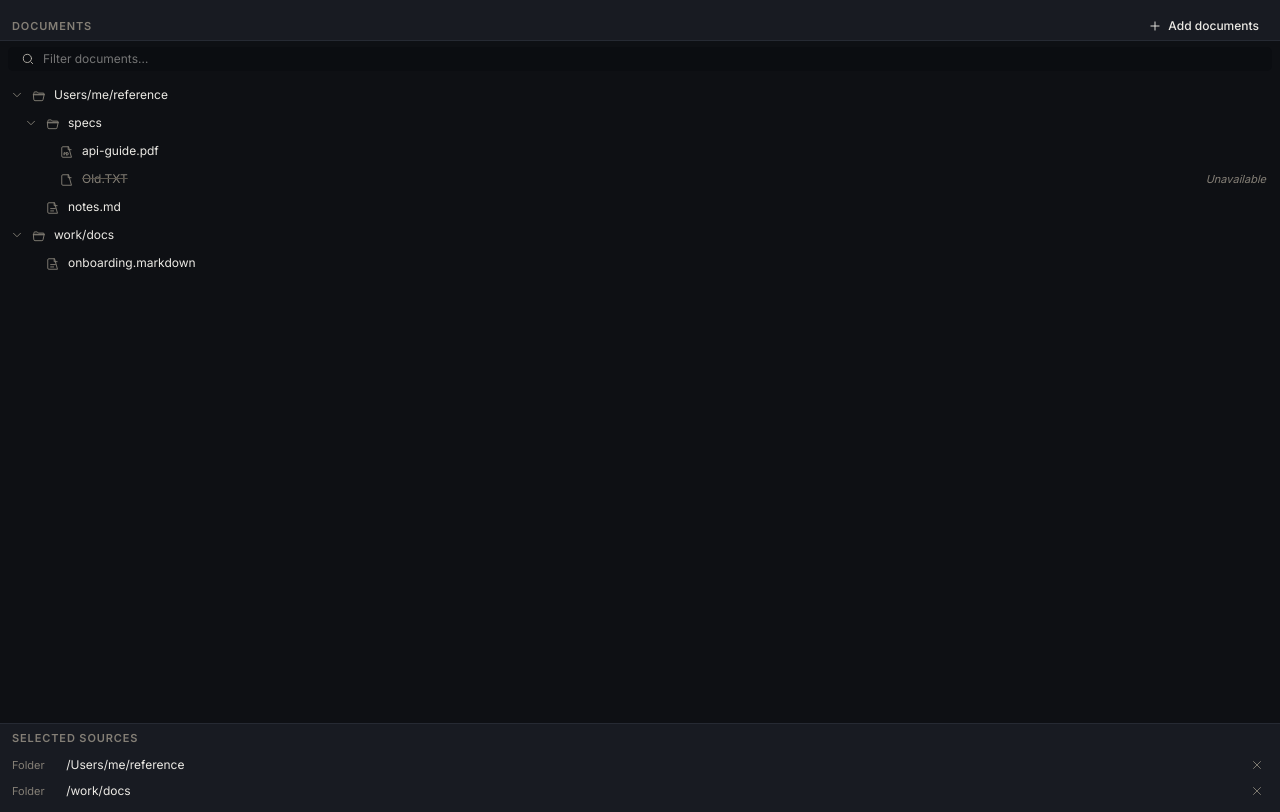
Test case: DPN-FR-UGVG: expanding and the keyboard › DPN-FR-UGVG: a folder row expands and collapses on click and carries aria-expanded
Expected: the element named "Documents" is shown, [6, 81, 1274, 277]
What coordinates should you click on to do the following:
click the list item "specs"
I would click on:
 (63, 123)
Its box is [24, 115, 102, 131].
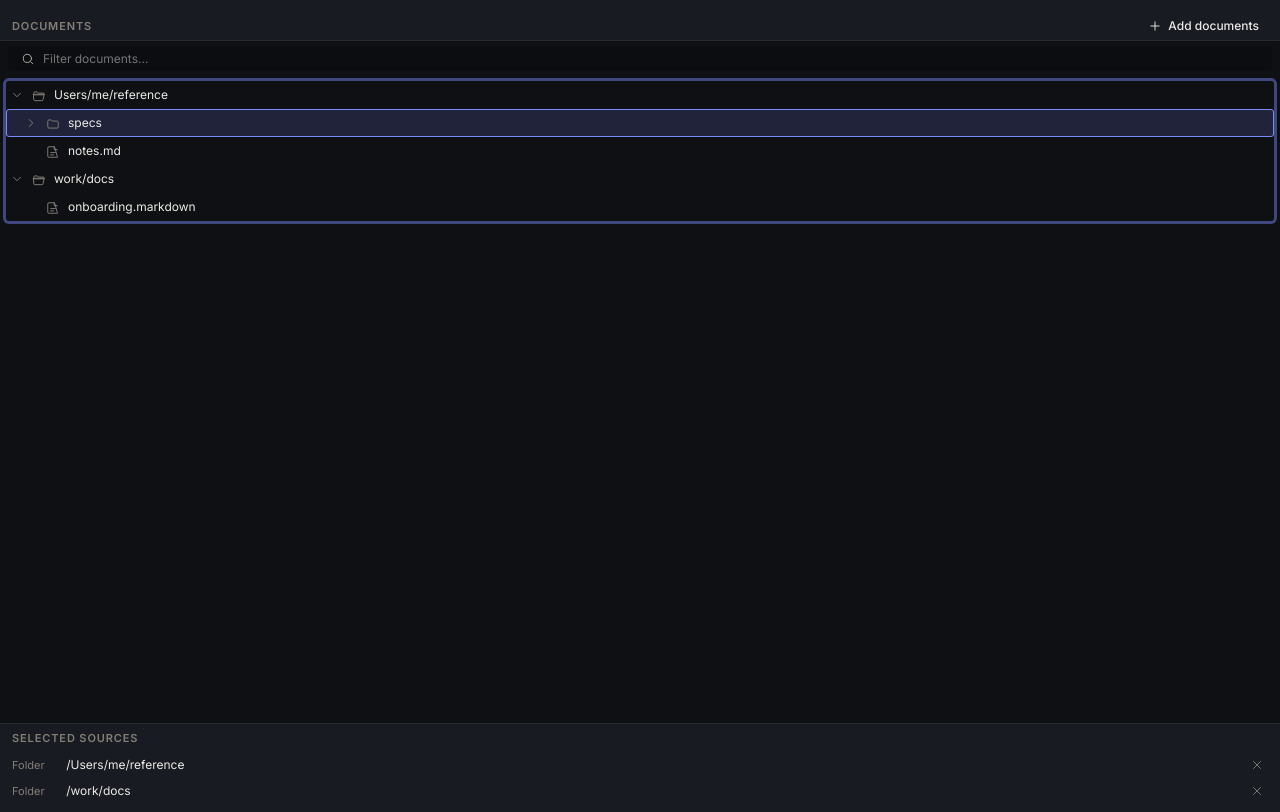
Now the list item "specs" is collapsed
Now the text "api-guide.pdf" is gone
What coordinates should you click on to do the following:
click the list item "specs"
I would click on:
 (640, 123)
Its box is [6, 109, 1274, 137].
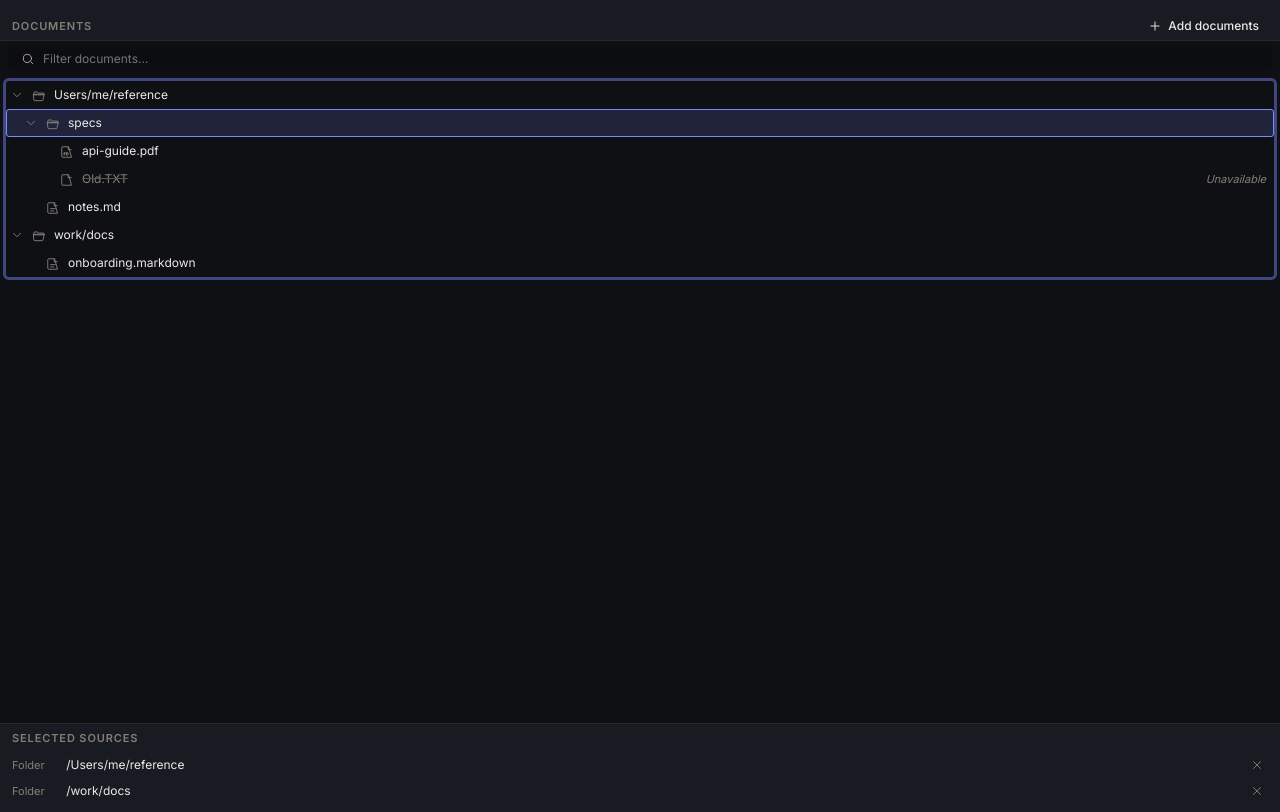
Now the list item "specs" is expanded, box [6, 109, 1274, 137]
Now the text "api-guide.pdf" is shown, box [82, 143, 159, 158]
